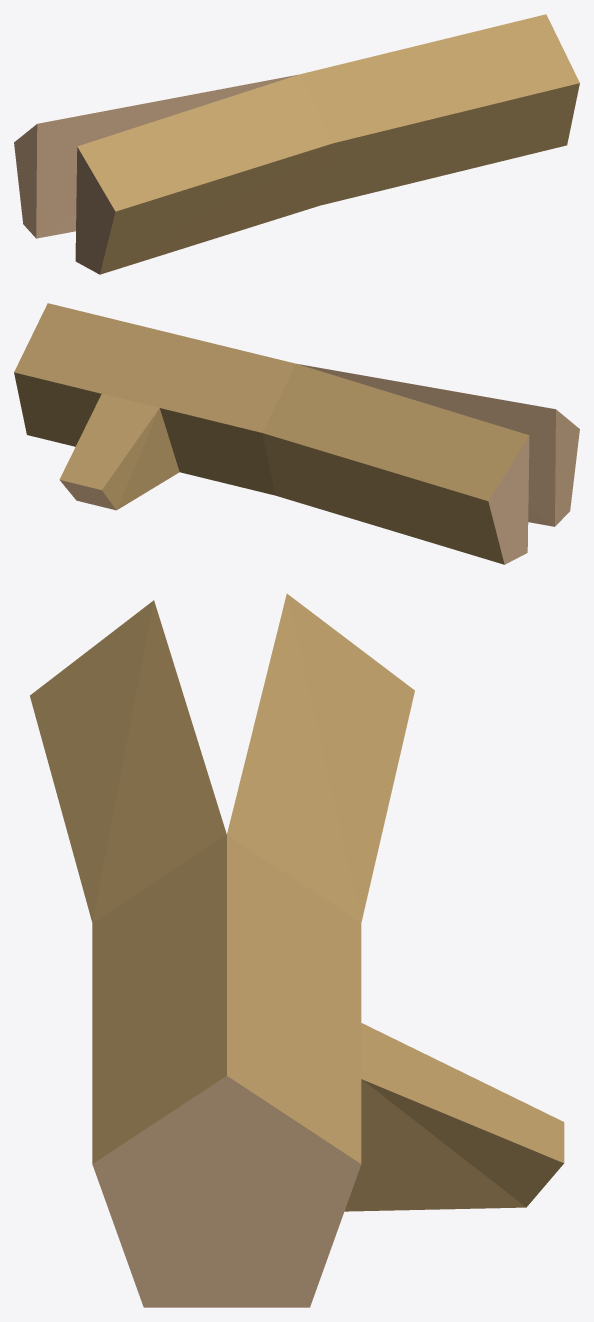
Rendered from Oak_Firewood_03_LOD.fbx.
3 views of the same model, one above another, from view 1: azimuth 30°, elevation 25°; view 2: azimuth 150°, elevation 25°; view 3: azimuth 270°, elevation 25° (orthographic). The views are drawn at different scales.
Parts seen in each view (by area): view 1: Oak_Firewood_03_LOD0; view 2: Oak_Firewood_03_LOD0; view 3: Oak_Firewood_03_LOD0.
Boxes of the visible parts, x1,y1,x2,y2 form: Oak_Firewood_03_LOD0: [14, 14, 579, 274]; Oak_Firewood_03_LOD0: [14, 303, 579, 564]; Oak_Firewood_03_LOD0: [30, 593, 564, 1307].
Size of what is drawn, in the model's own units: 56 by 12.61 by 26.23.
